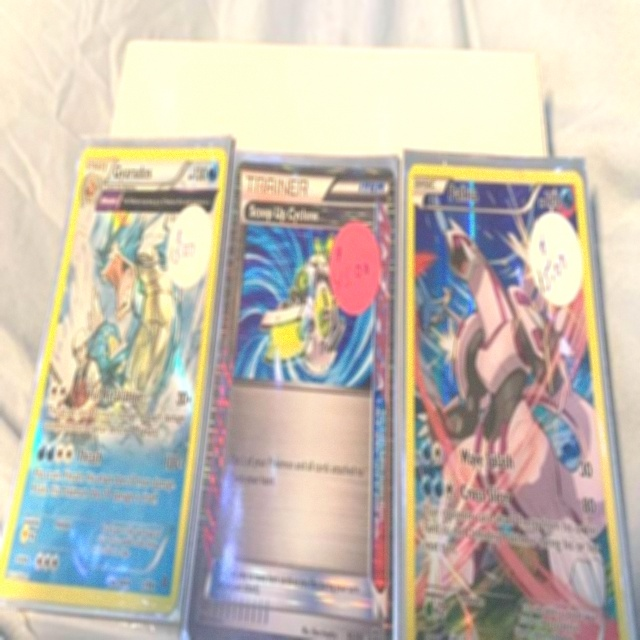card: (0, 145, 229, 617), (404, 160, 629, 640), (186, 157, 396, 640)
